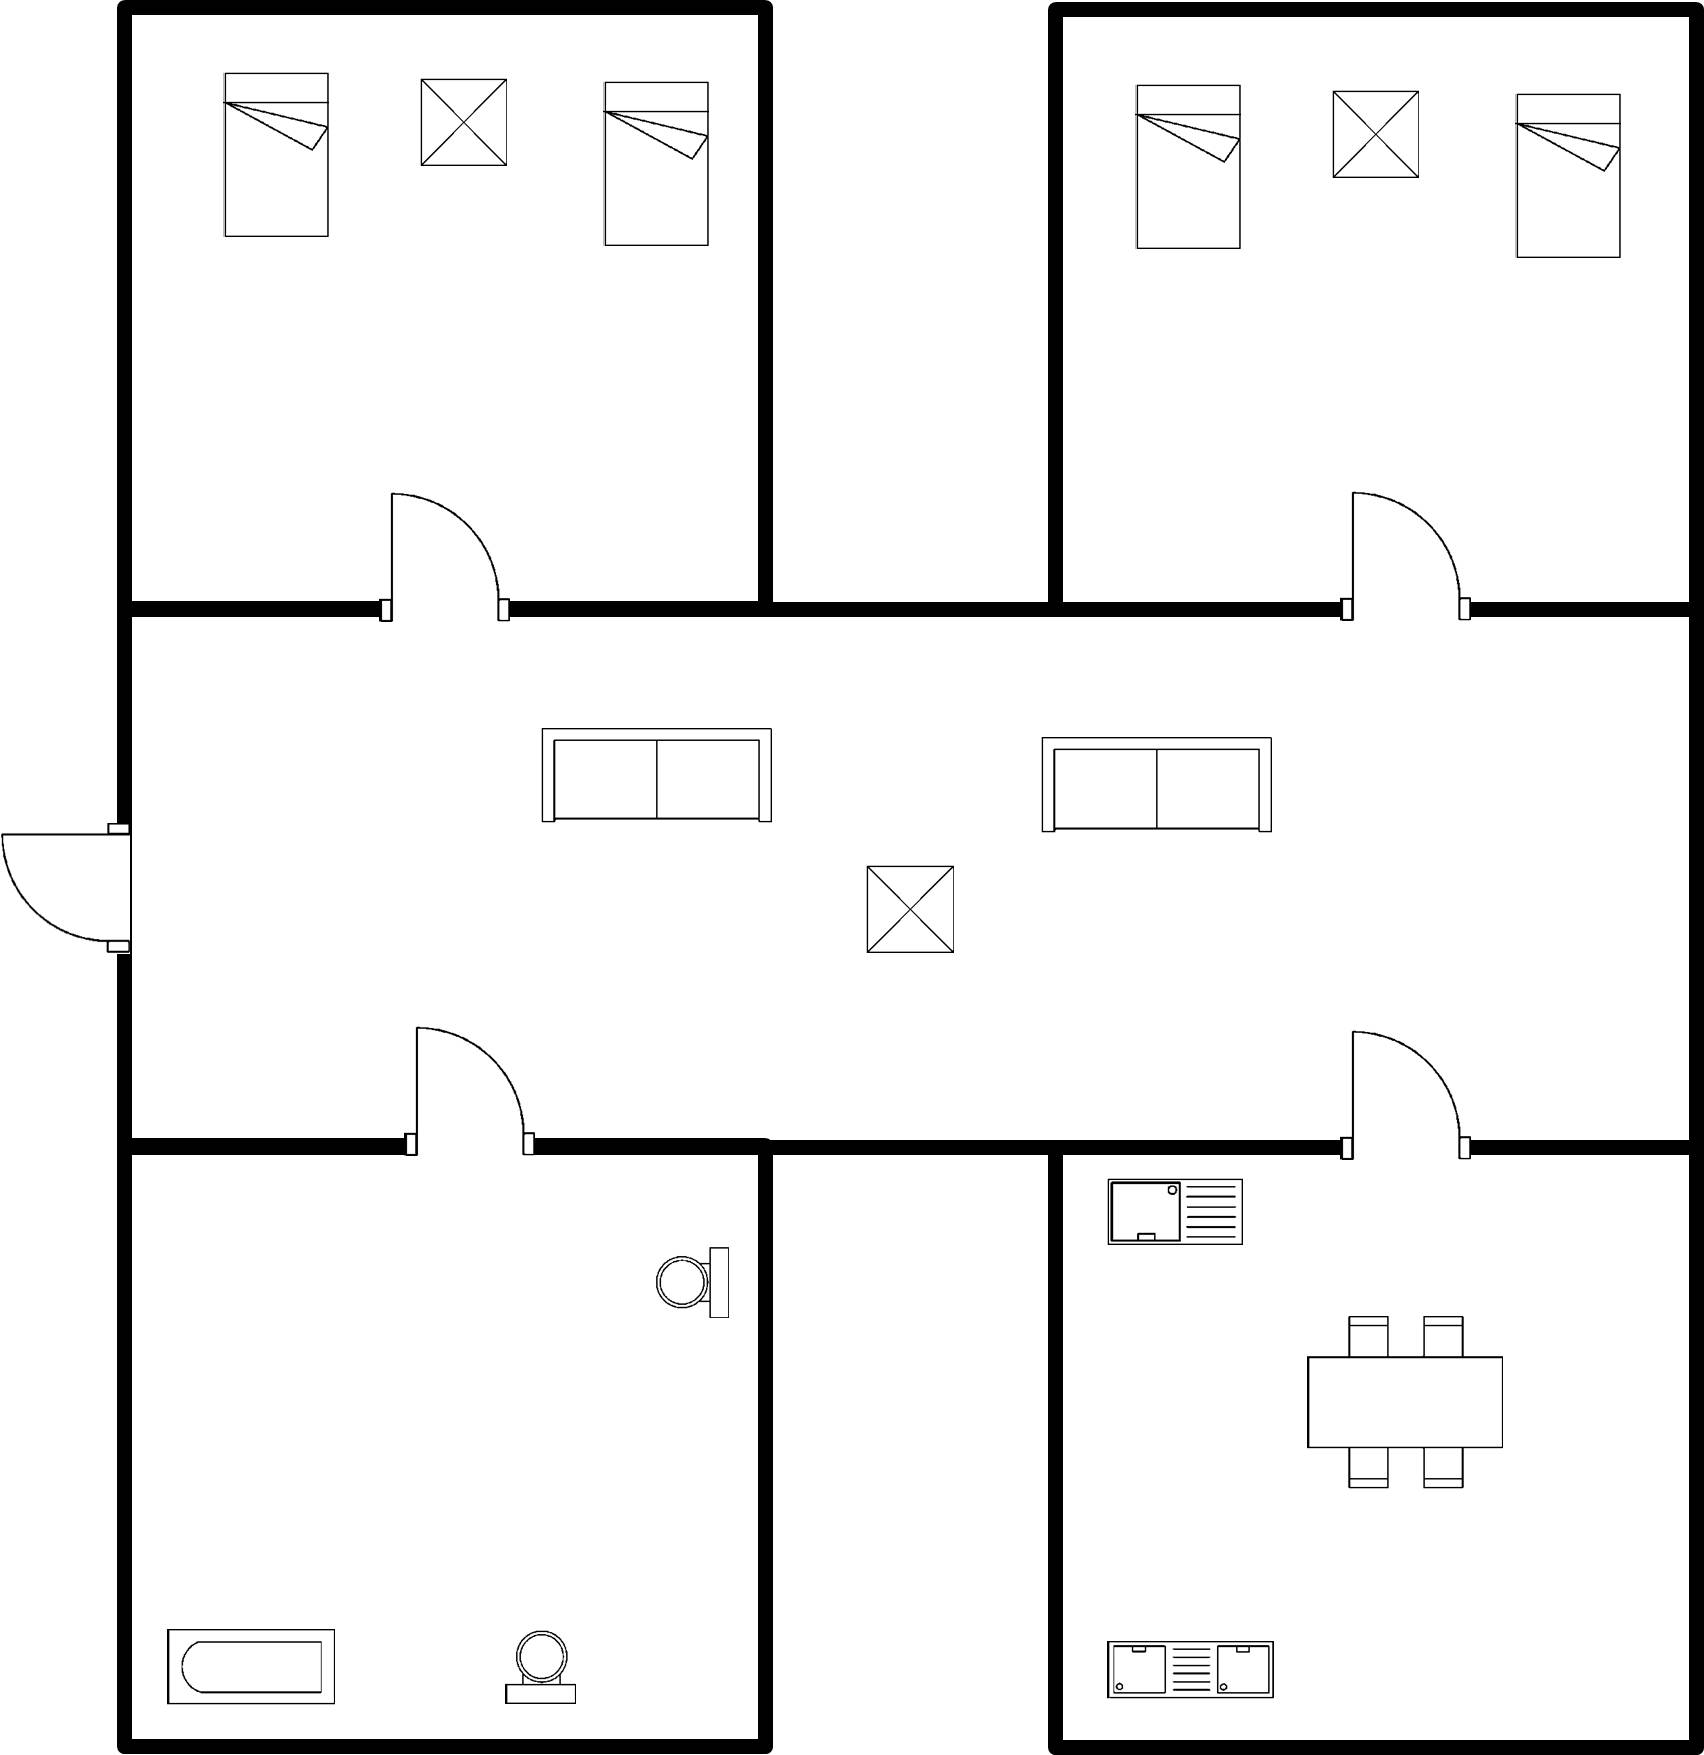bed: (1502, 80, 1636, 270), (1121, 73, 1252, 259), (592, 70, 719, 254), (214, 63, 338, 247)
coffee_table: (847, 849, 966, 966), (409, 63, 516, 180), (1323, 75, 1431, 189)
dining_table: (1290, 1303, 1521, 1506)
large_sink: (643, 1235, 745, 1335), (490, 1620, 597, 1715)
large_sofa: (1026, 723, 1285, 846), (528, 716, 785, 837)
sink: (1095, 1168, 1252, 1265)
tub: (152, 1615, 352, 1721)
twin_sink: (1097, 1630, 1285, 1709)
